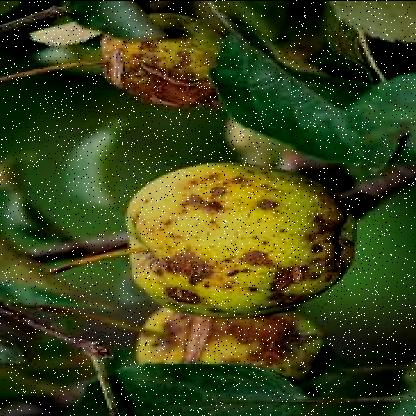damaged_apple: (128, 165, 348, 315), (136, 302, 330, 388), (93, 11, 234, 109)
